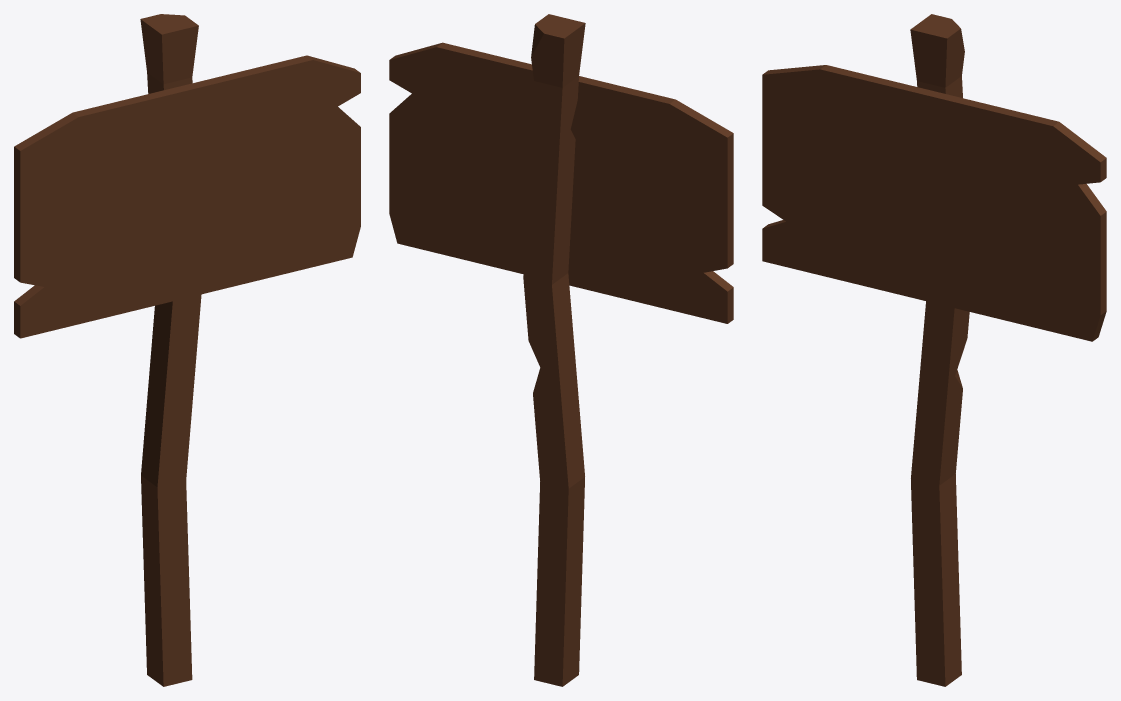
File: ForestSign1.fbx
The picture shows the model from 3 angles, left to right: view 1: azimuth 30°, elevation 25°; view 2: azimuth 150°, elevation 25°; view 3: azimuth 330°, elevation 25°; orthographic projection.
Parts seen in each view (by area): view 1: ForestSign1; view 2: ForestSign1; view 3: ForestSign1.
Part boxes in pixels (box(x1,y1,x2,y2)): ForestSign1: box(14, 14, 360, 686); ForestSign1: box(389, 14, 733, 686); ForestSign1: box(762, 14, 1106, 686).
Size of the model in its own units: 73.5 by 135 by 9.42.
